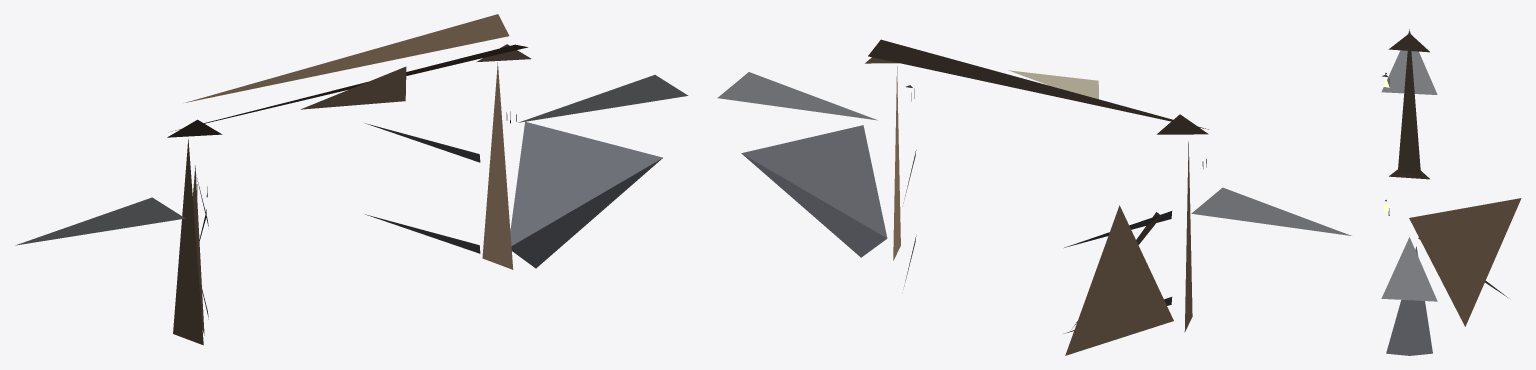
The model's file is bree_gate_stone_lod2.glb.
3 views of the same model, side by side, from view 1: azimuth 30°, elevation 25°; view 2: azimuth 150°, elevation 25°; view 3: azimuth 270°, elevation 25° (orthographic). The views are drawn at different scales.
Parts seen in each view (by area): view 1: bree_gate_stone_lod2; view 2: bree_gate_stone_lod2; view 3: bree_gate_stone_lod2.
Boxes of the visible parts, x1,y1,x2,y2 form: bree_gate_stone_lod2: (15, 14, 688, 345); bree_gate_stone_lod2: (717, 39, 1351, 355); bree_gate_stone_lod2: (1381, 29, 1521, 355).
Bounding box in the file's own units: 13.6 × 5 × 2.99.
